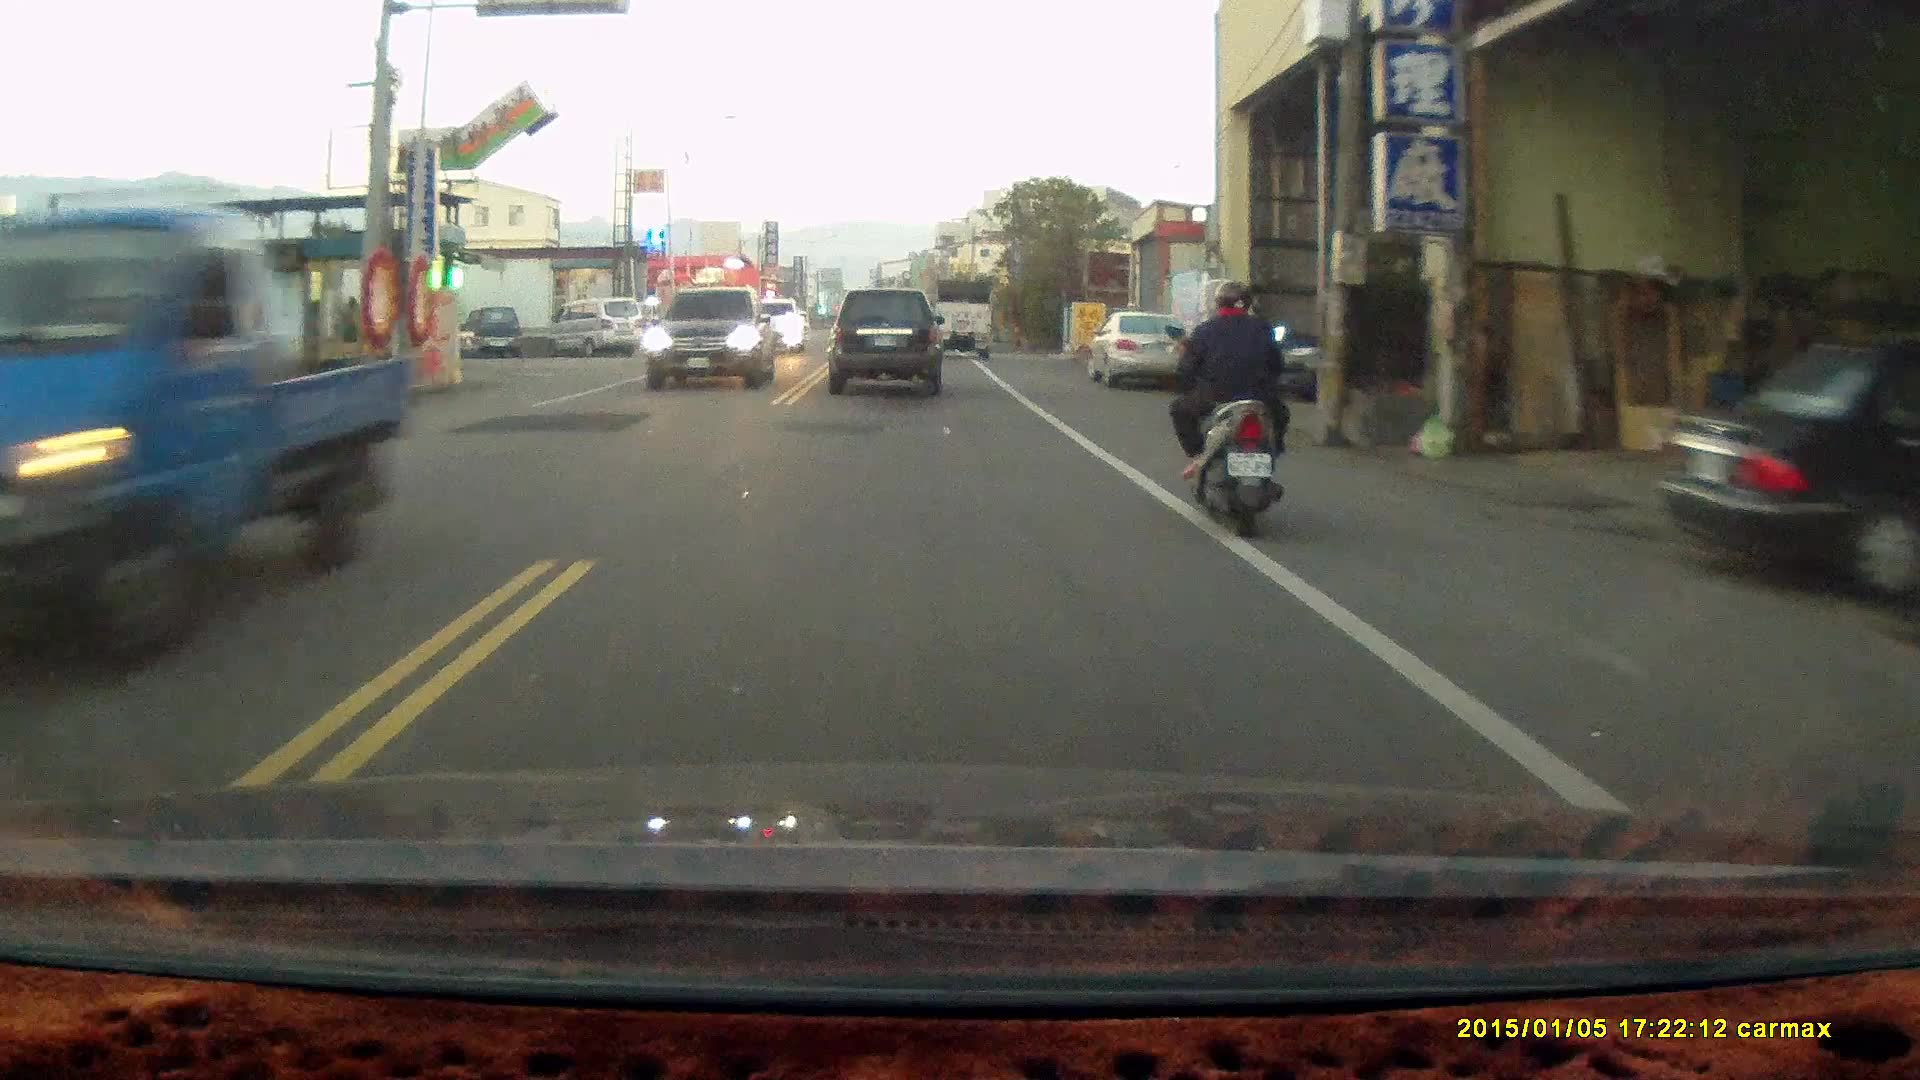rider: (1163, 274, 1293, 539)
vehicle: (1, 201, 435, 680), (1663, 329, 1918, 607), (644, 285, 782, 394), (828, 287, 945, 395), (1086, 310, 1188, 385), (552, 296, 645, 357), (927, 268, 997, 349)
